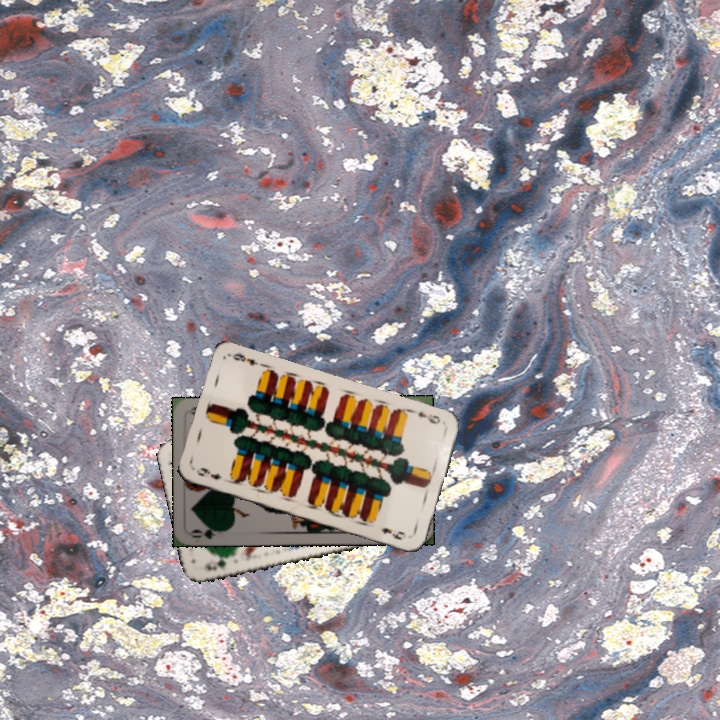E9: (407, 406, 443, 427), (192, 463, 223, 482)
GK: (200, 552, 236, 573)
GO: (188, 522, 229, 541)
